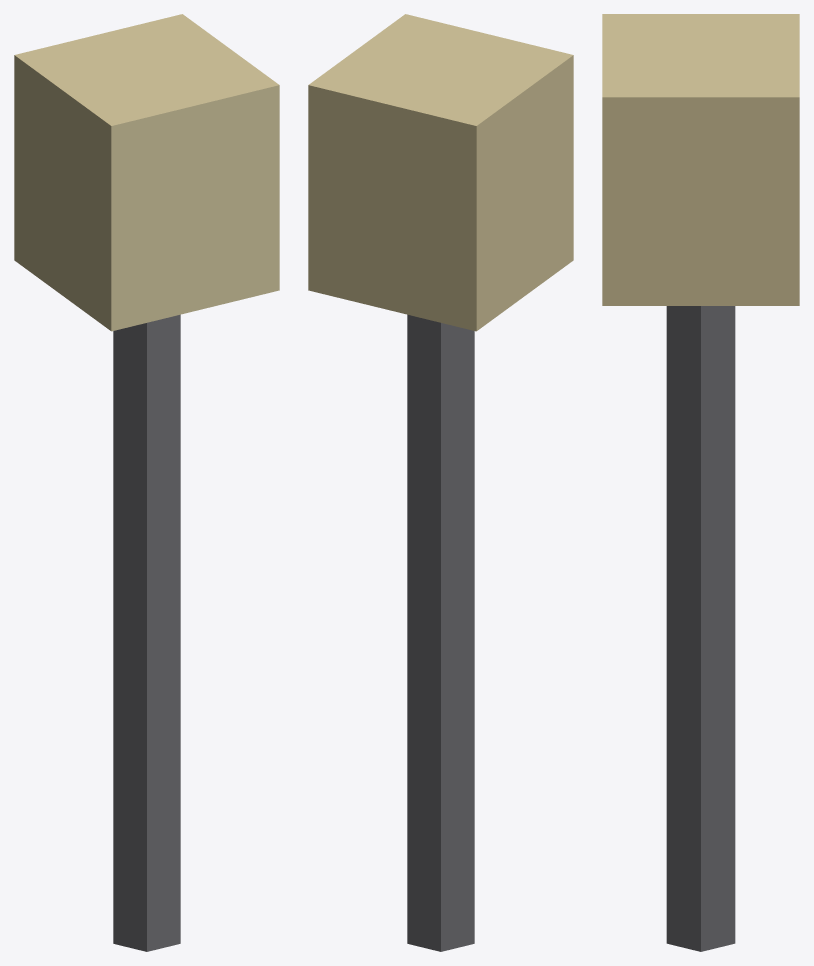
The model's file is furn_lamp.glb.
3 views of the same model, side by side, from view 1: azimuth 30°, elevation 25°; view 2: azimuth 150°, elevation 25°; view 3: azimuth 270°, elevation 25° (orthographic).
Parts seen in each view (by area): view 1: furn_lamp2; view 2: furn_lamp2; view 3: furn_lamp2.
Boxes of the visible parts, x1=… form: furn_lamp2: x1=14, y1=14, x2=279, y2=951; furn_lamp2: x1=308, y1=14, x2=573, y2=951; furn_lamp2: x1=602, y1=14, x2=799, y2=951.
Bounding box in the file's own units: 0.3 × 1.47 × 0.3.
